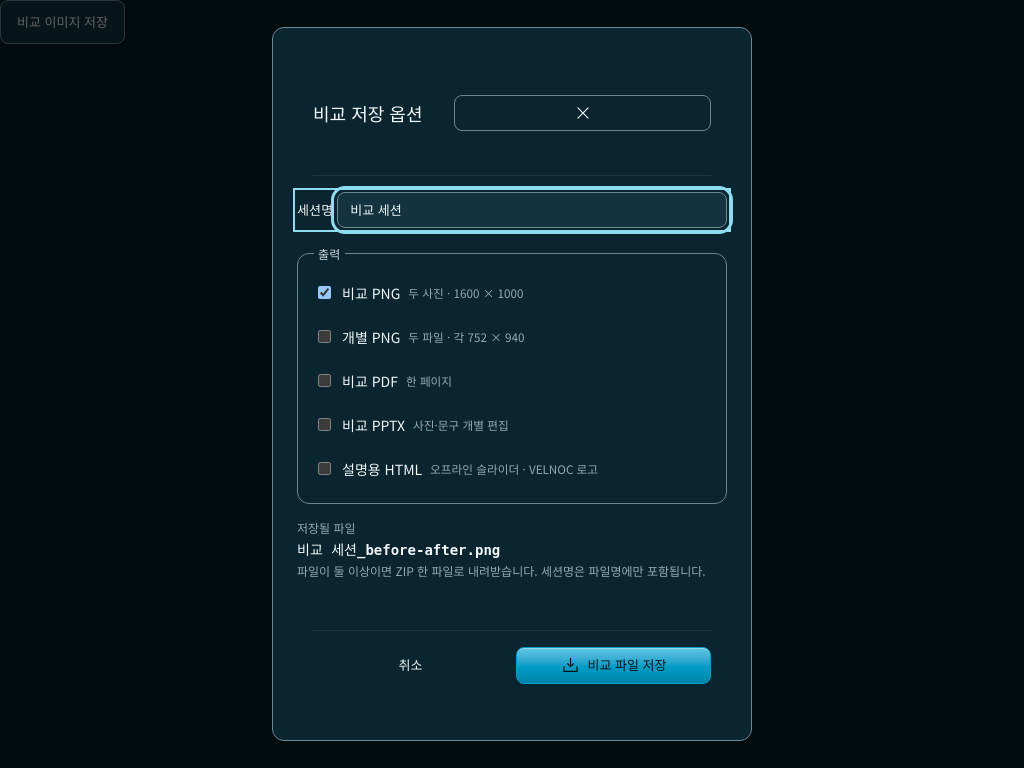
Scenario: comparison export dialog › previews one ZIP when 비교 PPTX joins the default PNG
Note: another format is selected.
Click the checkbox labelled "비교 PPTX" at point(324, 425), box [318,418,331,431]
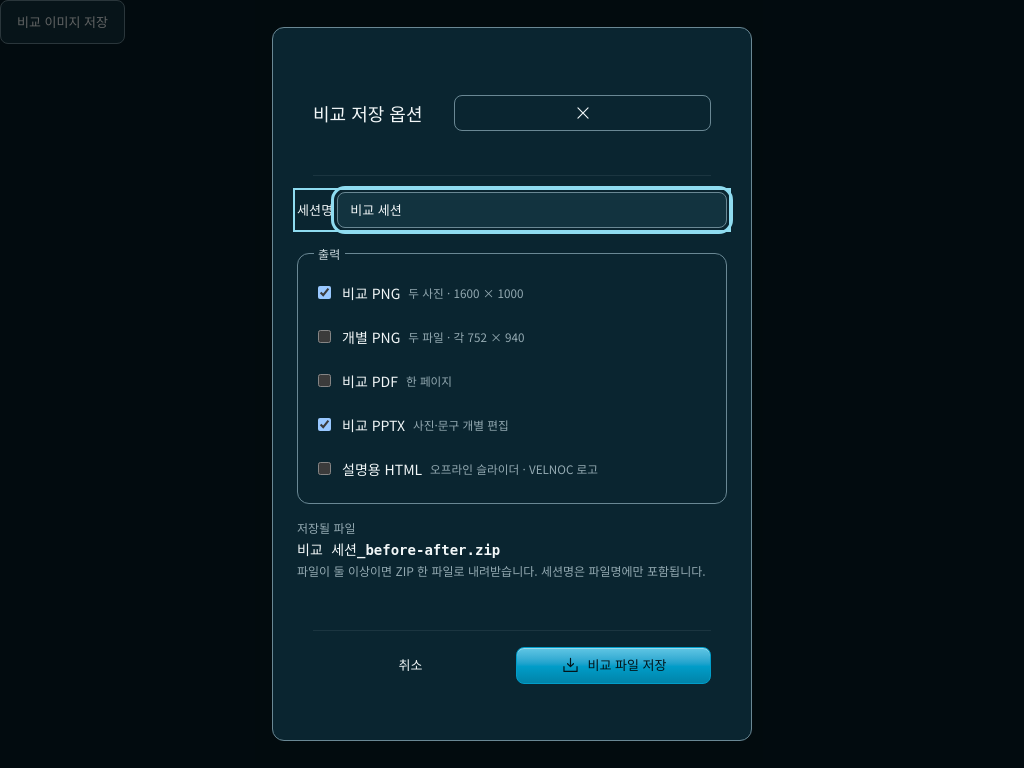
Expected: the dialog "비교 저장 옵션" is shown, [272,27,752,741]
Now the text "비교 세션_before-after.zip" is shown, box [297,542,500,558]
